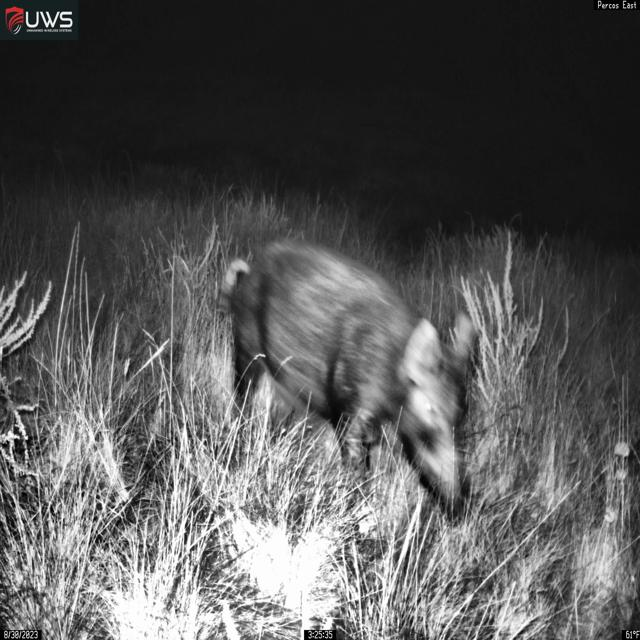pig: (216, 237, 478, 523)
